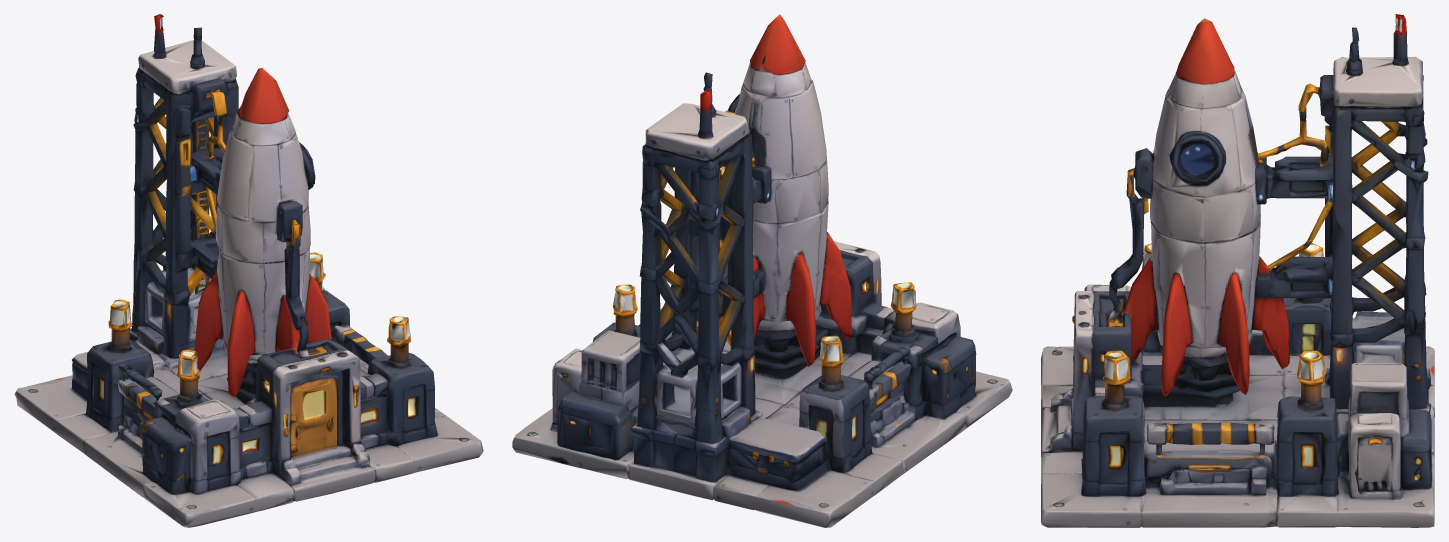
The model's file is rocket_hangar.glb.
3 views of the same model, side by side, from view 1: azimuth 30°, elevation 25°; view 2: azimuth 150°, elevation 25°; view 3: azimuth 270°, elevation 25° (orthographic). The views are drawn at different scales.
Size of the model in its own units: 4.97 by 5.95 by 4.98.
1 material, 1 textured.
